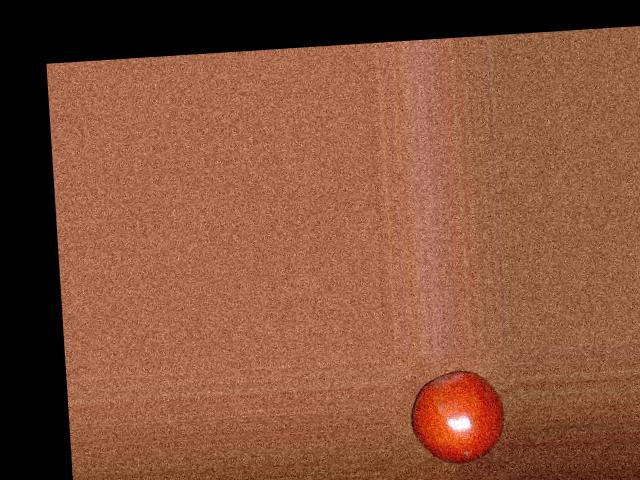tomato: (409, 368, 508, 466)
